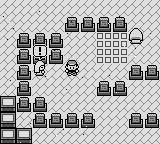main: (65, 60, 80, 76)
no-caminable: (15, 33, 95, 128), (0, 96, 32, 143), (63, 18, 128, 32), (128, 112, 159, 128), (96, 81, 128, 96), (129, 65, 159, 80)
npc: (130, 29, 143, 44), (34, 61, 46, 76)
recuperarse: (96, 33, 127, 63)
